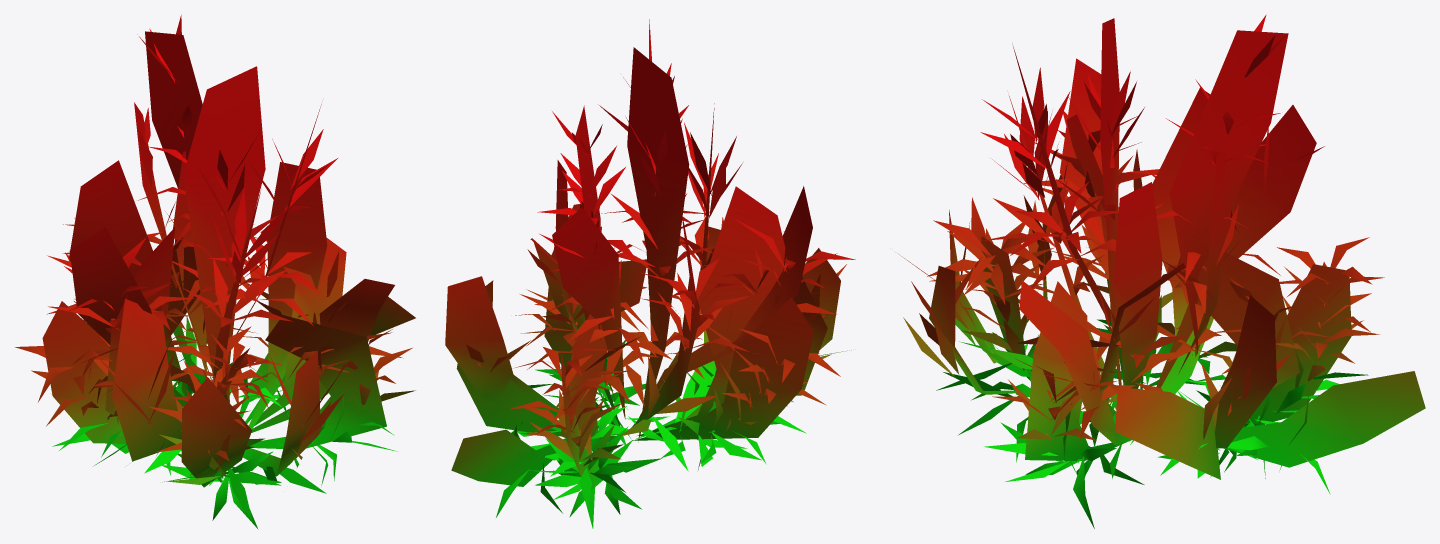
File: Var4_LOD6.fbx
The picture shows the model from 3 angles, left to right: view 1: azimuth 30°, elevation 25°; view 2: azimuth 150°, elevation 25°; view 3: azimuth 270°, elevation 25°; orthographic projection. The views are drawn at different scales.
Visible parts, largest first — view 1: _mnlo_Var4_LOD6; view 2: _mnlo_Var4_LOD6; view 3: _mnlo_Var4_LOD6.
Part boxes in pixels (x1=…): _mnlo_Var4_LOD6: x1=15, y1=15, x2=415, y2=529; _mnlo_Var4_LOD6: x1=445, y1=19, x2=855, y2=528; _mnlo_Var4_LOD6: x1=899, y1=14, x2=1425, y2=528.
Size of the model in its own units: 27.4 by 30 by 30.84.
